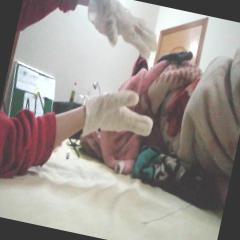gloved: (79, 82, 158, 150), (80, 0, 167, 61)
